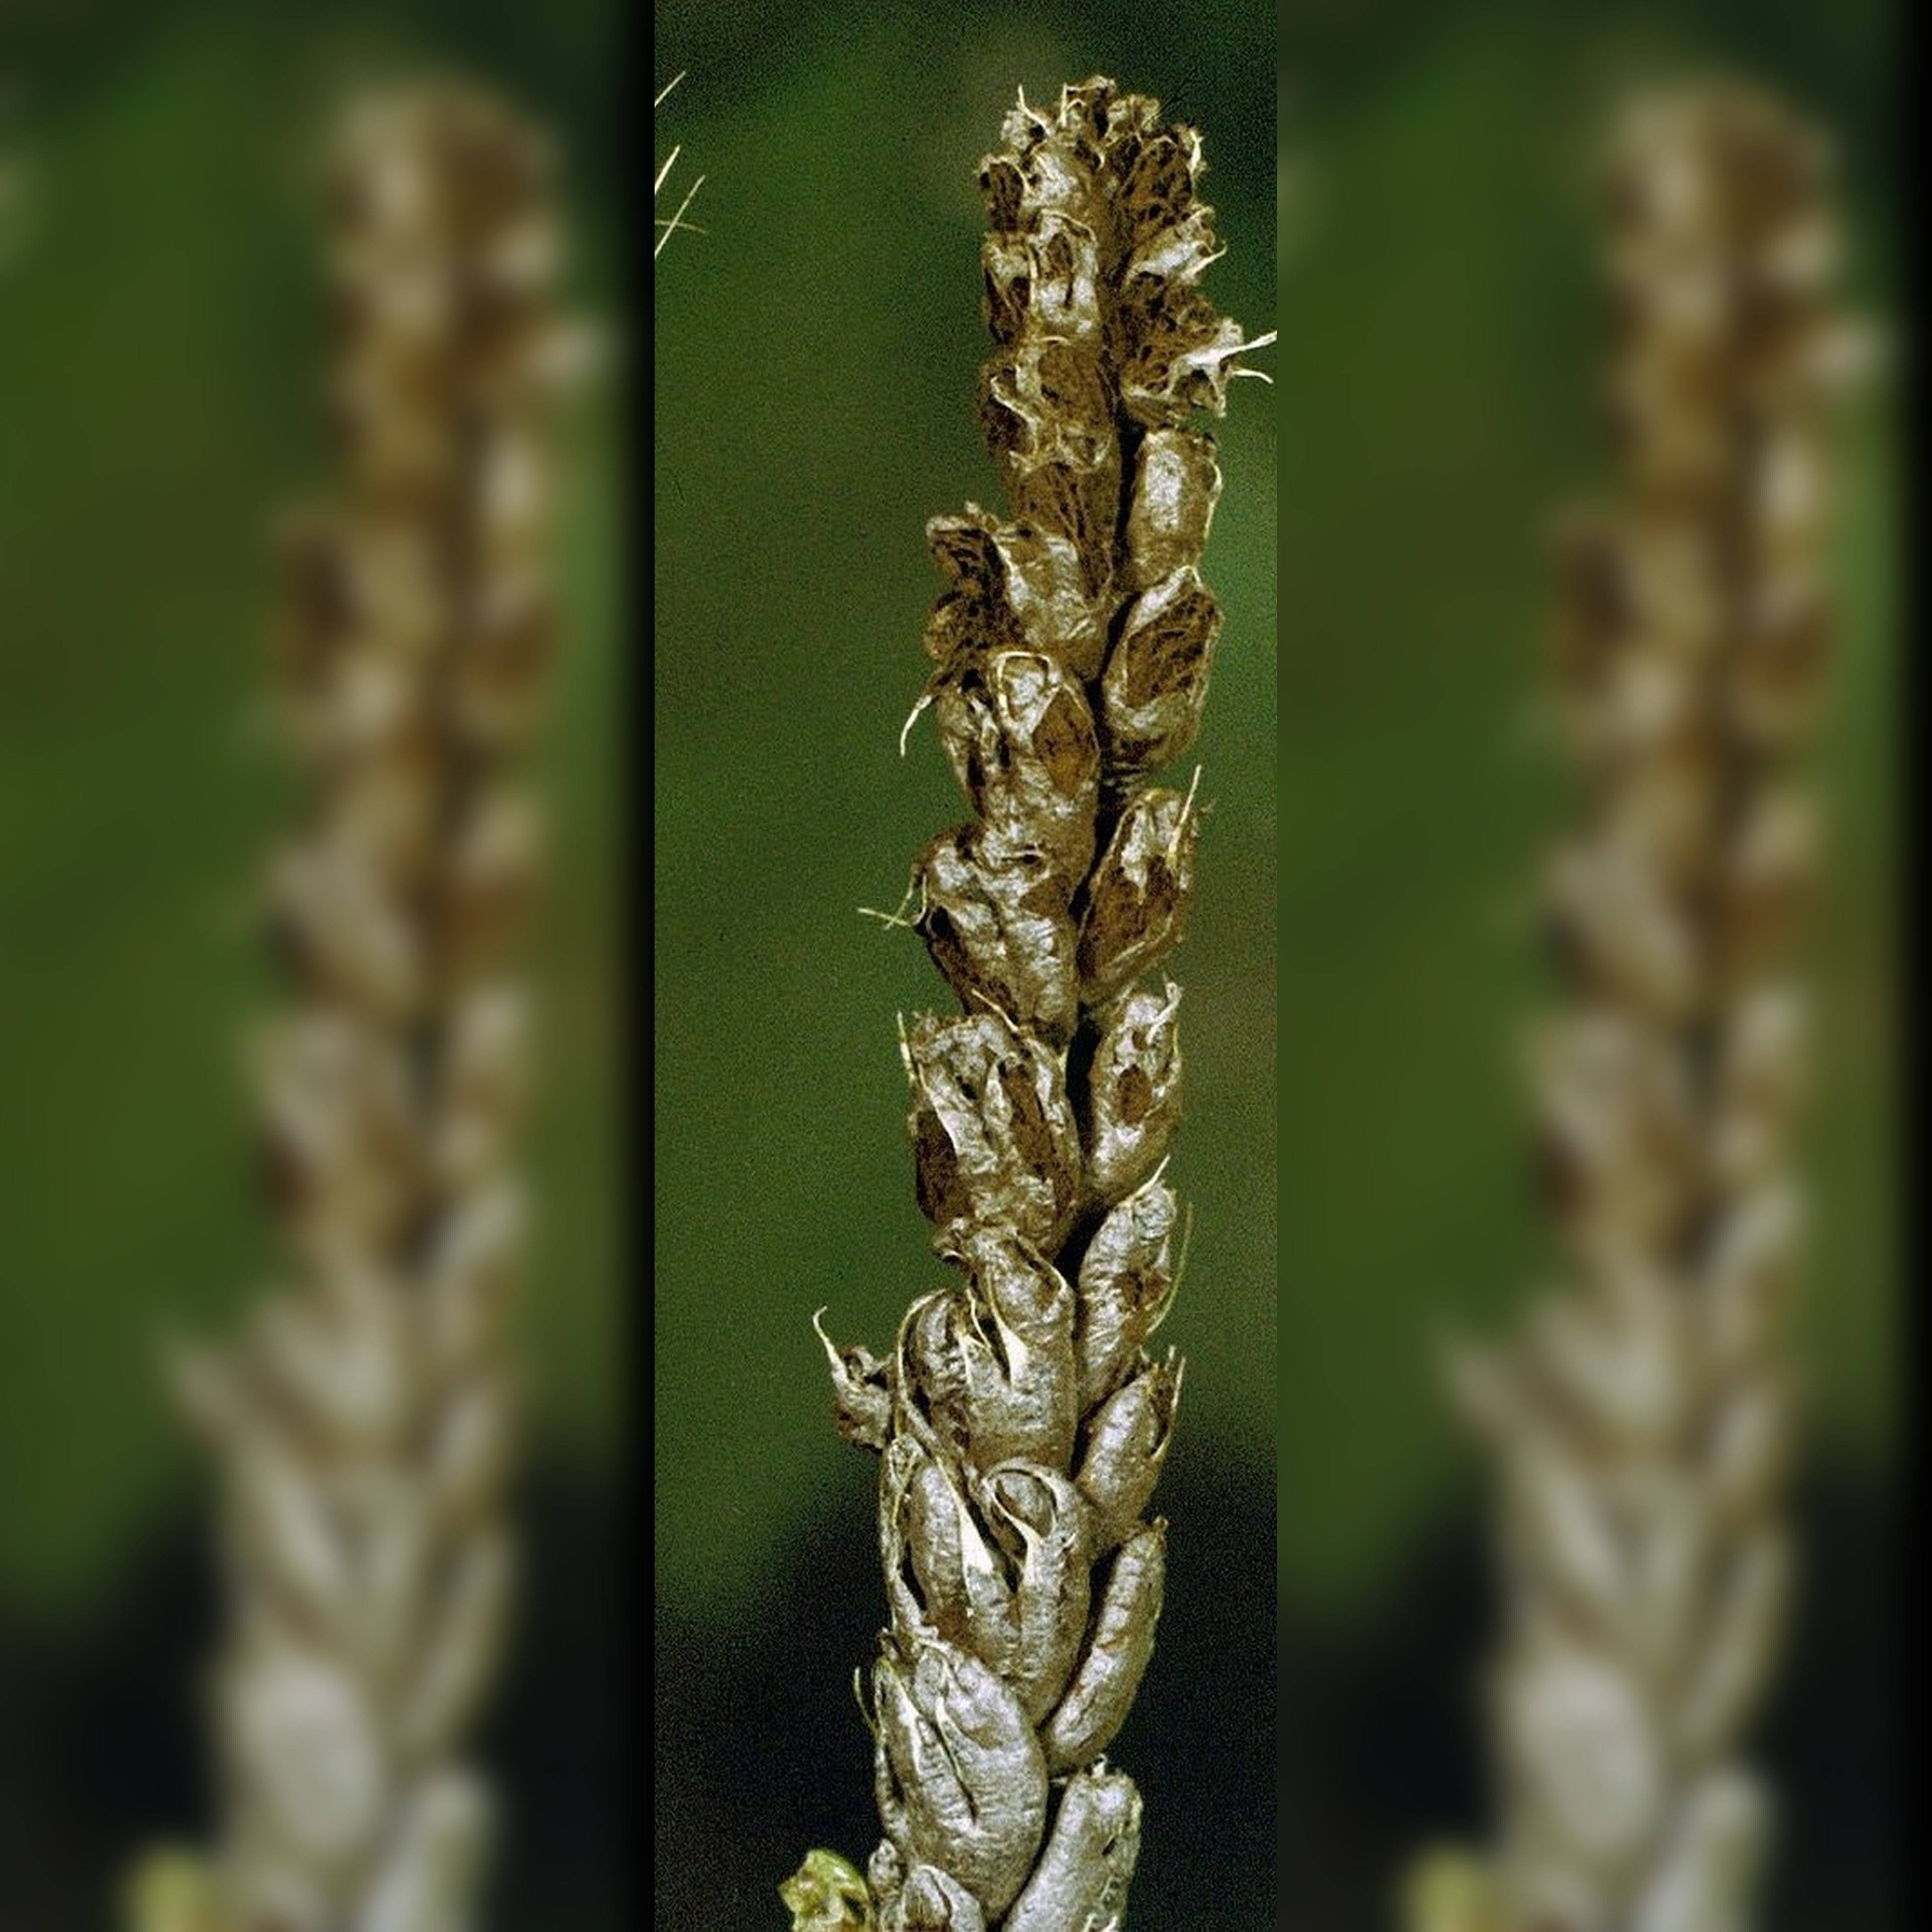Wheat Loose Smut: (807, 51, 1253, 1932)
